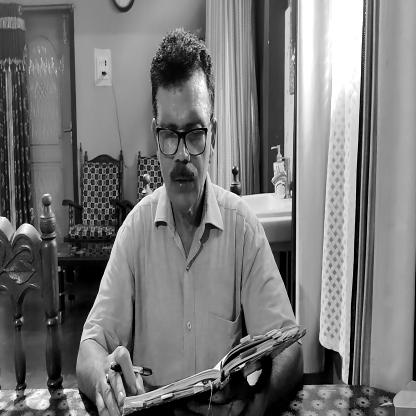Normal: (150, 38, 214, 214)
